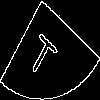T: (24, 24, 63, 81)
